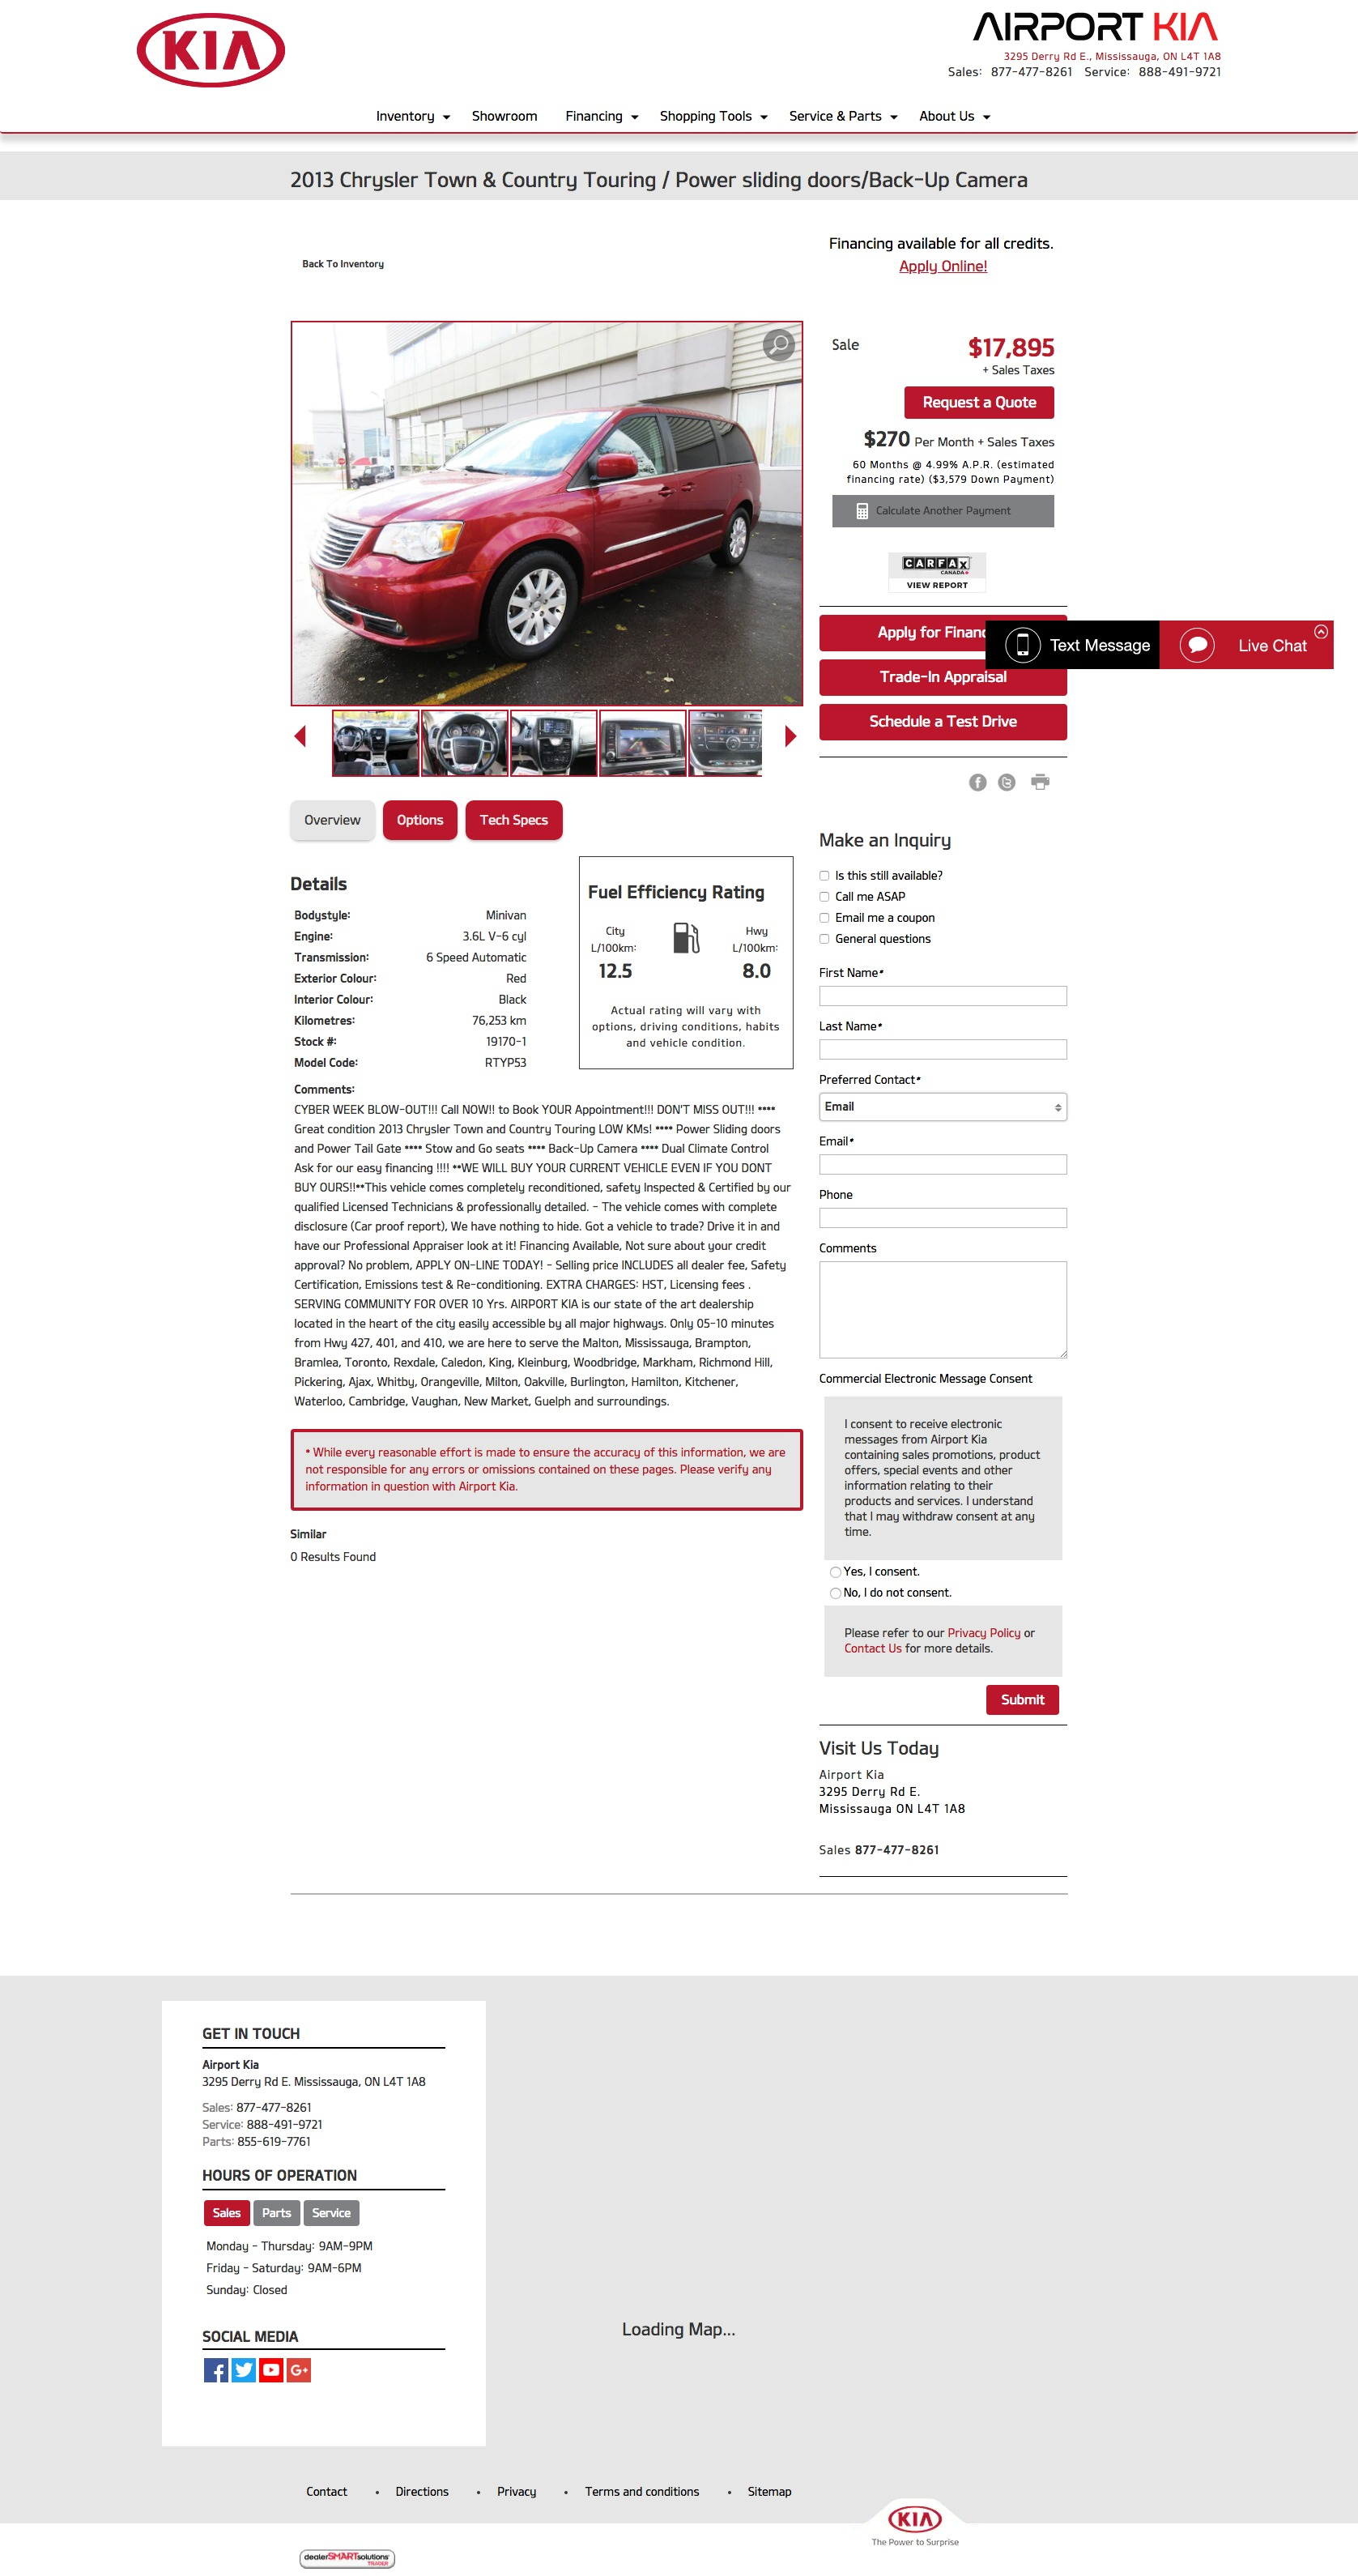car: (784, 724, 799, 750)
